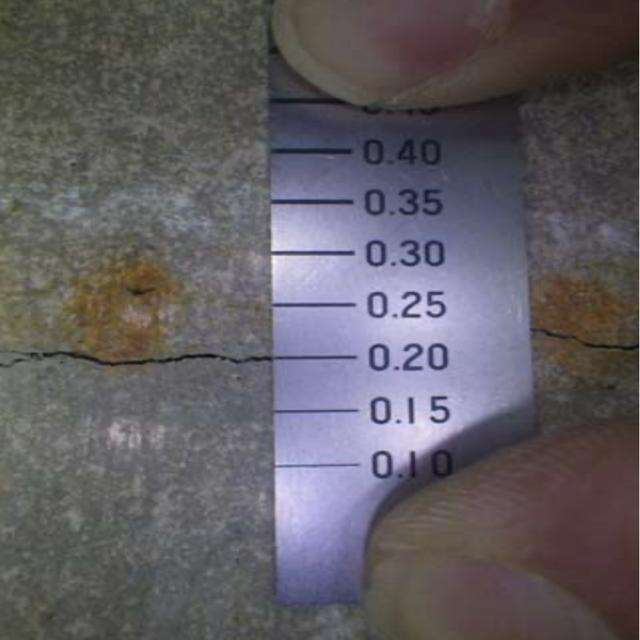crack: (3, 336, 636, 376)
